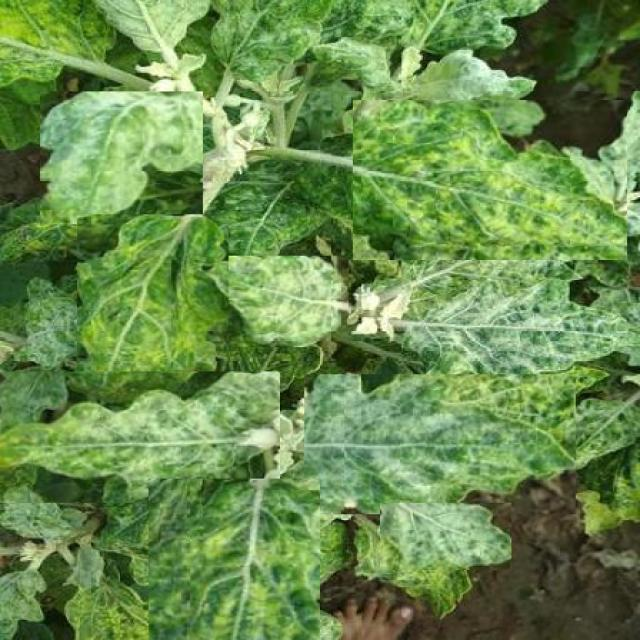Mosaic Virus: (353, 100, 627, 260), (305, 374, 576, 515), (0, 372, 280, 502), (78, 215, 229, 405), (148, 478, 320, 640), (40, 92, 204, 225), (207, 256, 349, 348), (379, 503, 512, 570)
